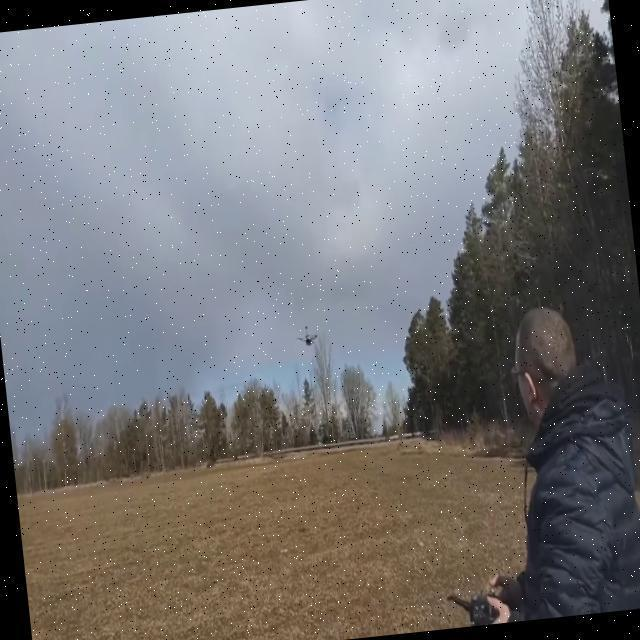Drons: (293, 322, 320, 348)
